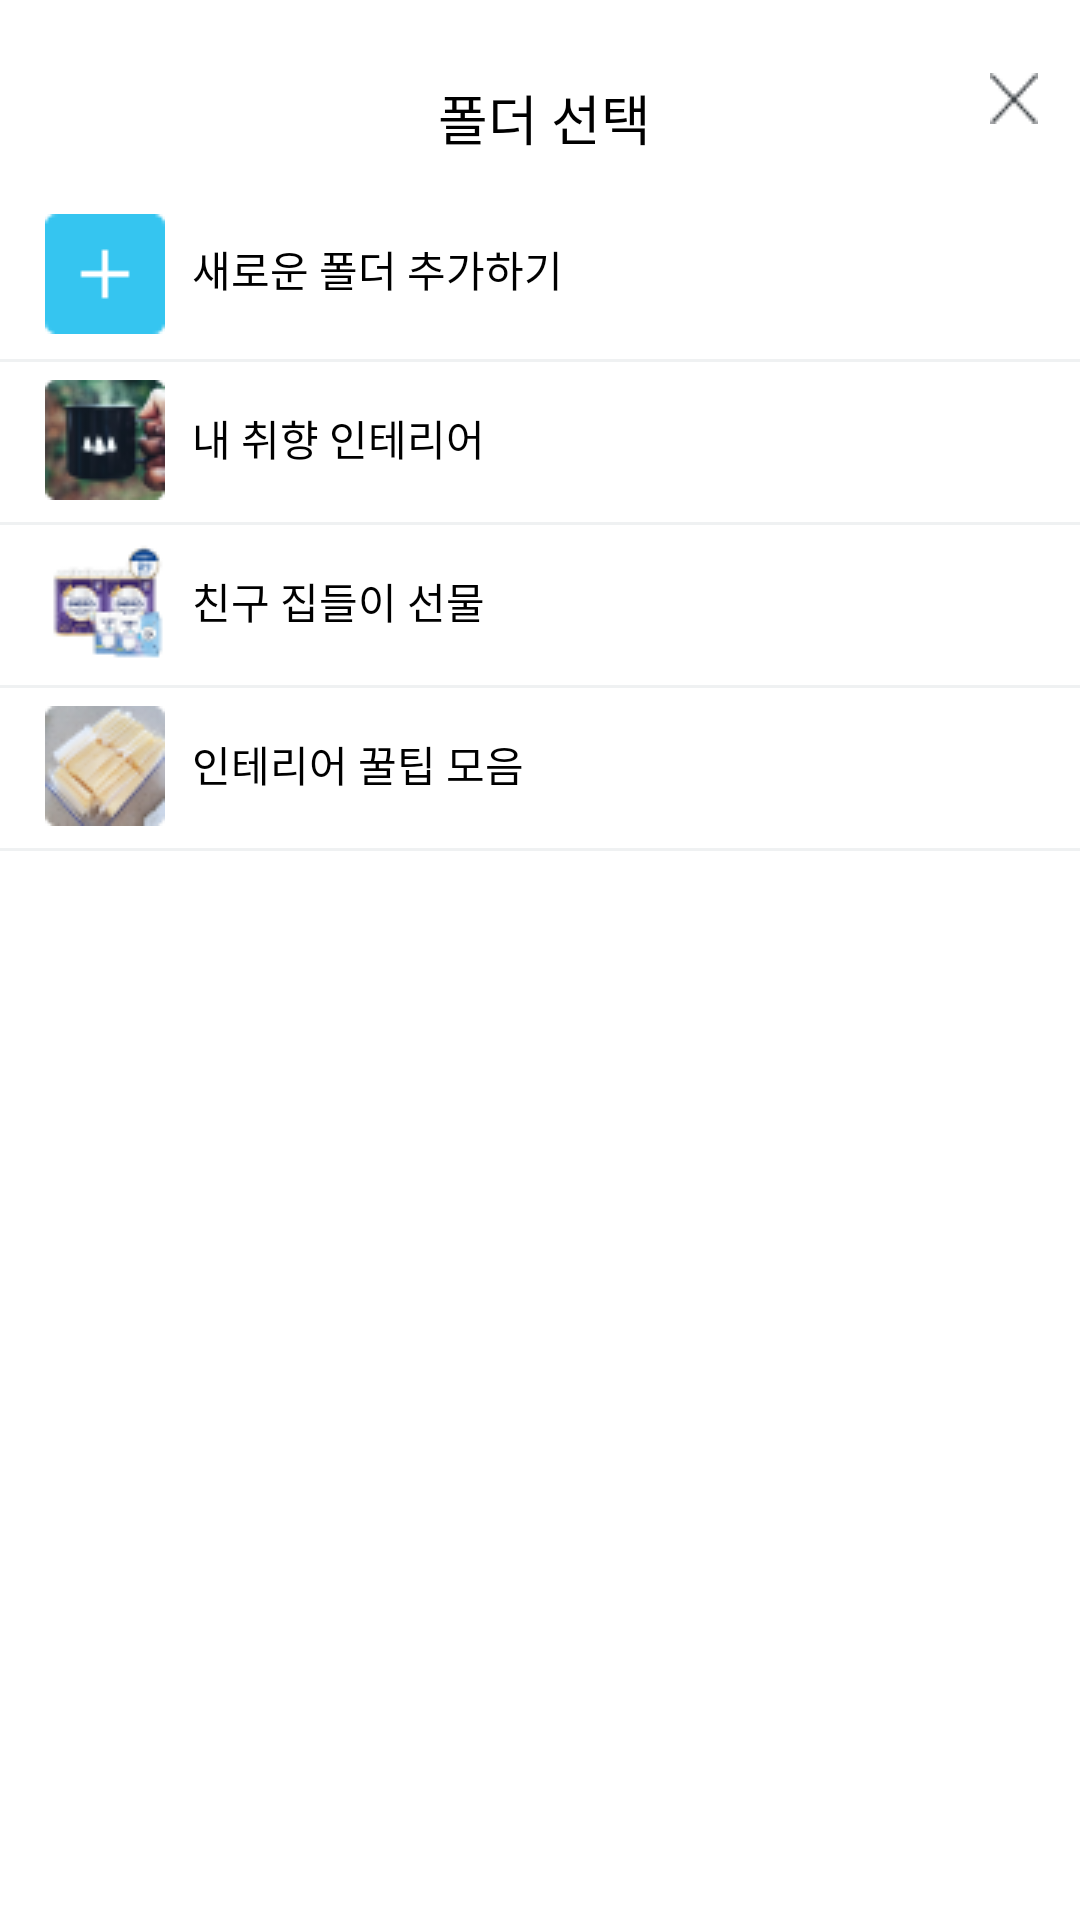

Where icons sit on this 1080w x 1920h app screen, as [x1,y1,x2,y2]:
close: [990,73,1038,124]
